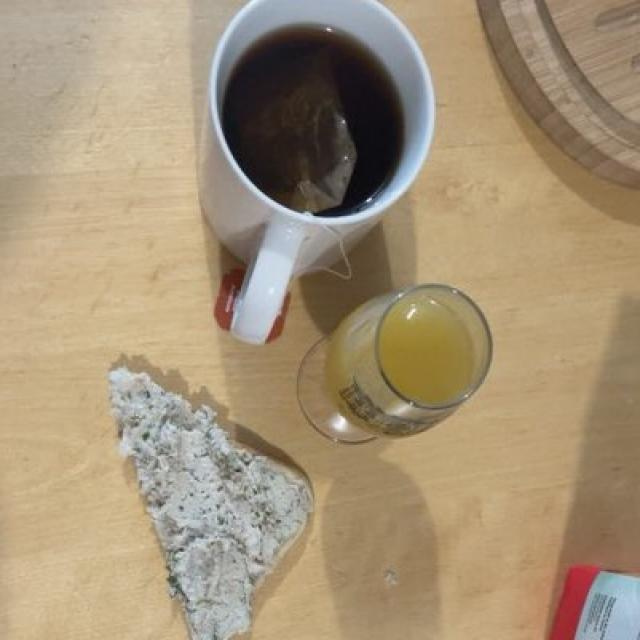juice-orange: (378, 294, 472, 403)
tea-black: (225, 29, 401, 208)
